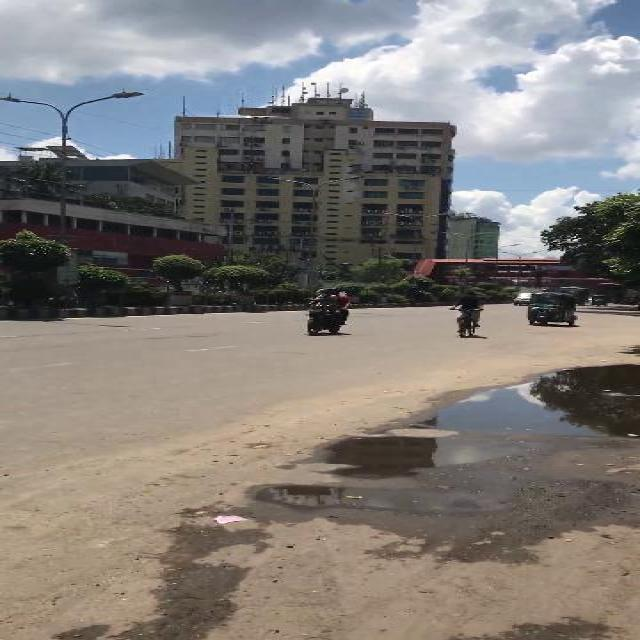bike: (305, 288, 351, 337), (448, 291, 486, 337)
vehicle: (528, 293, 580, 328), (559, 287, 588, 306), (591, 295, 607, 307)
